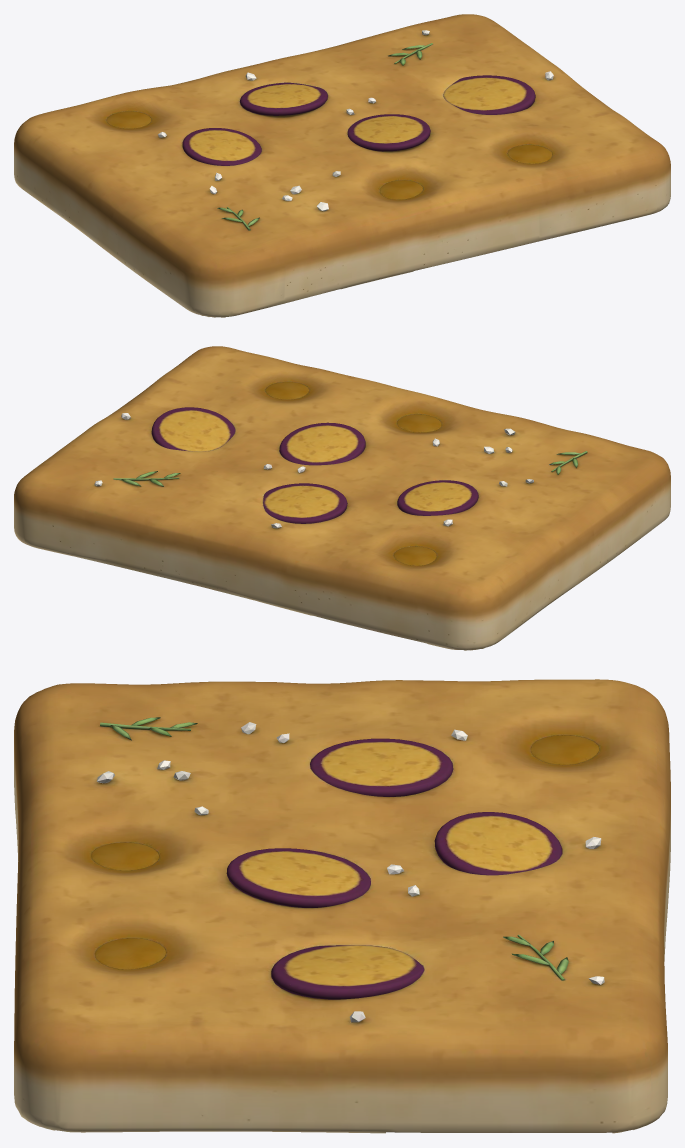
File: focaccia--sweetpotato-puree.glb
3 views of the same model, one above another, from view 1: azimuth 30°, elevation 25°; view 2: azimuth 150°, elevation 25°; view 3: azimuth 270°, elevation 25° (orthographic). The views are drawn at different scales.
Visible parts, largest first — view 1: focaccia_sweetpotato-puree; view 2: focaccia_sweetpotato-puree; view 3: focaccia_sweetpotato-puree.
Boxes of the visible parts, x1,y1,x2,y2 form: focaccia_sweetpotato-puree: (14, 14, 670, 317); focaccia_sweetpotato-puree: (14, 346, 670, 650); focaccia_sweetpotato-puree: (14, 679, 670, 1133).
Size of the model in its own units: 1.01 by 0.1358 by 0.7441.
1 material, 1 textured.
